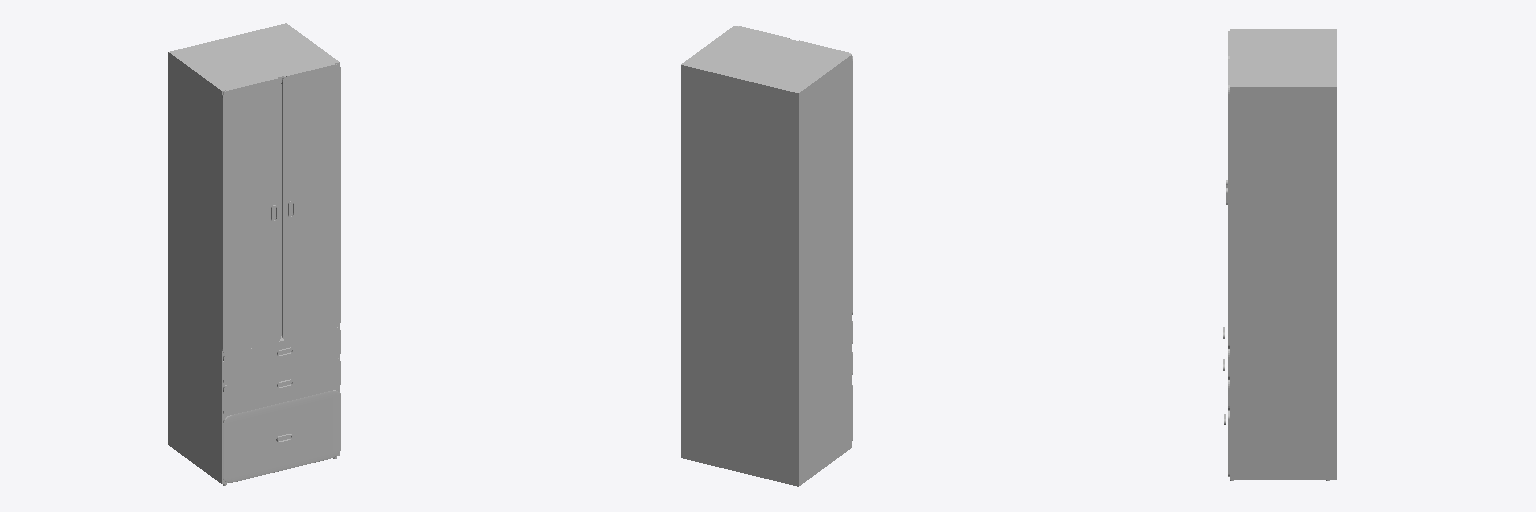
Rendered from StorageFurniture_StuvaFritidsWardrobeWhite.obj.
3 views of the same model, side by side, from view 1: azimuth 30°, elevation 25°; view 2: azimuth 150°, elevation 25°; view 3: azimuth 270°, elevation 25° (orthographic).
Parts seen in each view (by area): view 1: obj_0; view 2: obj_0; view 3: obj_0.
Boxes of the visible parts, x1=… form: obj_0: x1=168, y1=23, x2=340, y2=485; obj_0: x1=681, y1=26, x2=852, y2=486; obj_0: x1=1223, y1=29, x2=1336, y2=480.
Size of the model in its own units: 60.1 by 192 by 50.